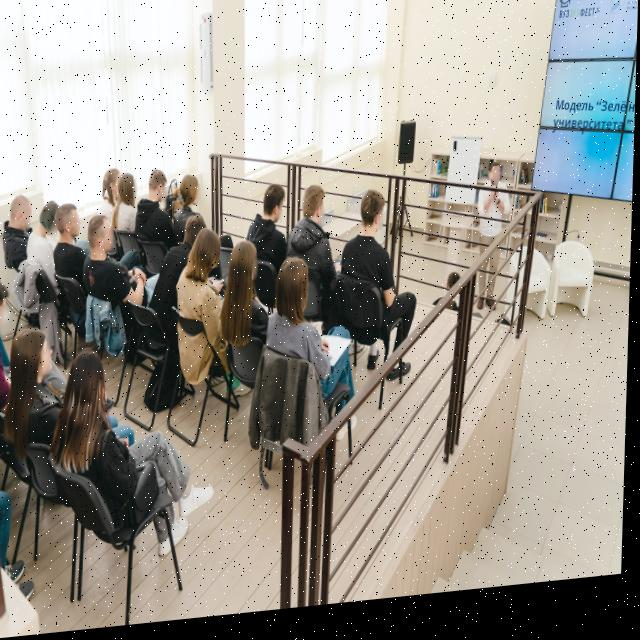Person: (58, 344, 224, 587), (337, 191, 425, 399), (179, 227, 232, 401), (8, 323, 76, 458), (274, 255, 331, 384), (223, 245, 271, 383), (476, 167, 508, 325), (240, 183, 295, 266), (290, 192, 338, 278), (0, 269, 25, 431), (167, 166, 211, 248), (56, 196, 93, 289), (90, 220, 121, 308), (97, 161, 132, 227), (117, 172, 147, 247), (38, 191, 60, 289), (140, 170, 174, 233), (7, 187, 35, 261)
